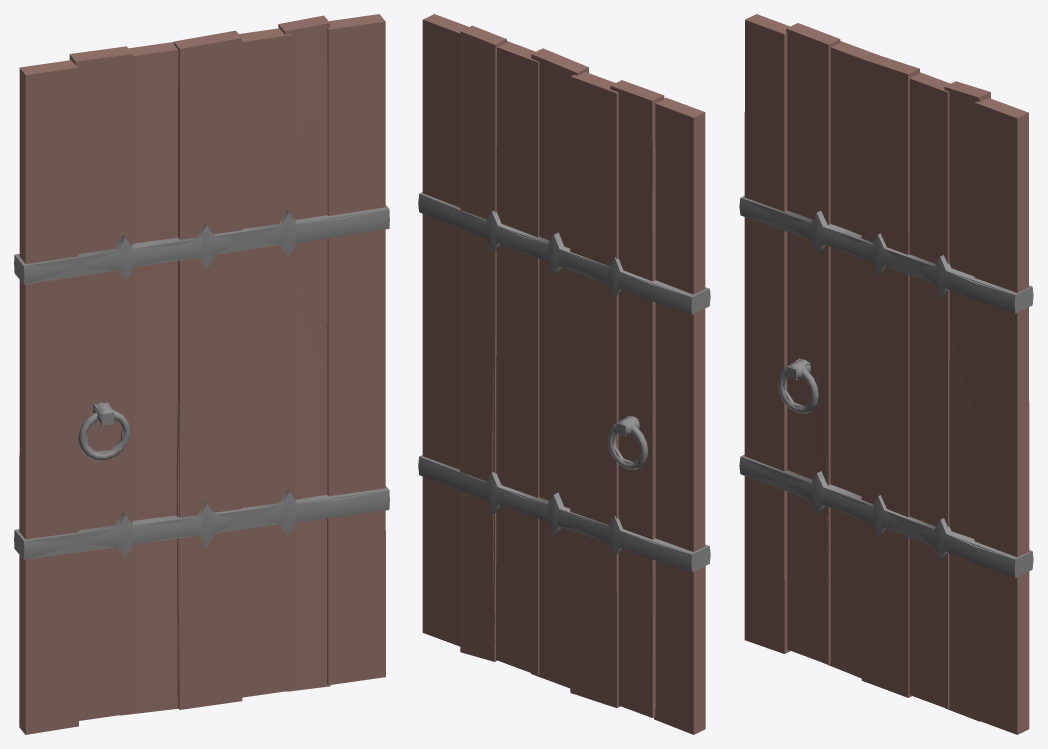
File: Wooden_Door_1.fbx
3 renders of one model, left to right at view 1: azimuth 30°, elevation 25°; view 2: azimuth 150°, elevation 25°; view 3: azimuth 330°, elevation 25°, orthographic. The views are drawn at different scales.
Parts seen in each view (by area): view 1: Wooden_Door_1_LOD0, Wooden_Door_1; view 2: Wooden_Door_1_LOD0, Wooden_Door_1; view 3: Wooden_Door_1_LOD0, Wooden_Door_1.
Boxes of the visible parts, <box> form: Wooden_Door_1_LOD0: <box>14,14,389,734</box>; Wooden_Door_1: <box>14,23,389,715</box>; Wooden_Door_1_LOD0: <box>419,14,709,734</box>; Wooden_Door_1: <box>418,28,710,717</box>; Wooden_Door_1_LOD0: <box>740,14,1032,734</box>; Wooden_Door_1: <box>739,87,1033,678</box>.
Bounding box in the file's own units: 1.15 × 2.18 × 0.3151.
